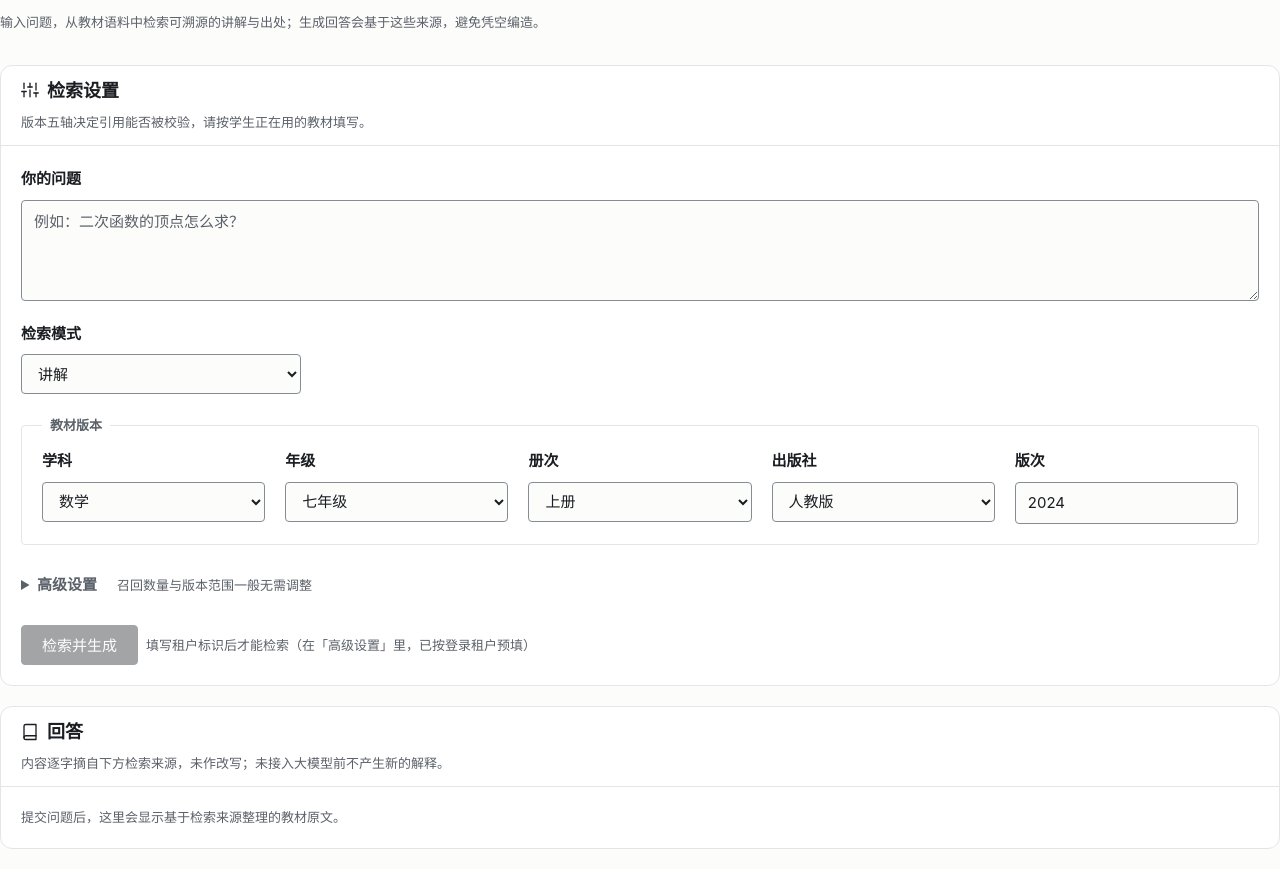
it: 知识检索页（FE-RAG 接线） › ⛔ 诚实错误态：检索失败时说原因，且不伪装空态
This screenshot has width=1280, height=869.
Type "顶点怎么求" into the text box labelled "你的问题" at x=640, y=250, box x1=21 y1=200 x2=1259 y2=301
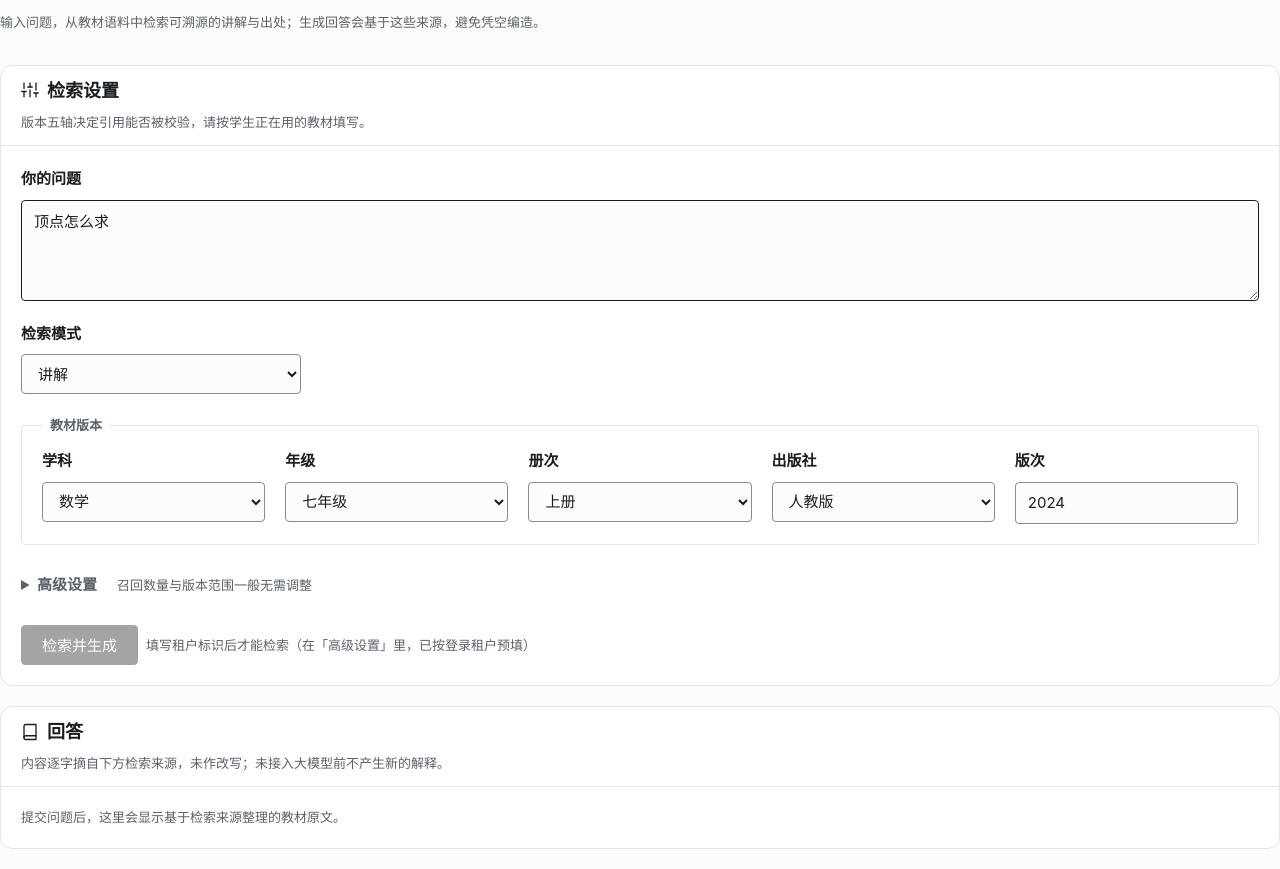
Click the heading "高级设置" at x=67, y=584, box x1=37 y1=575 x2=97 y2=594
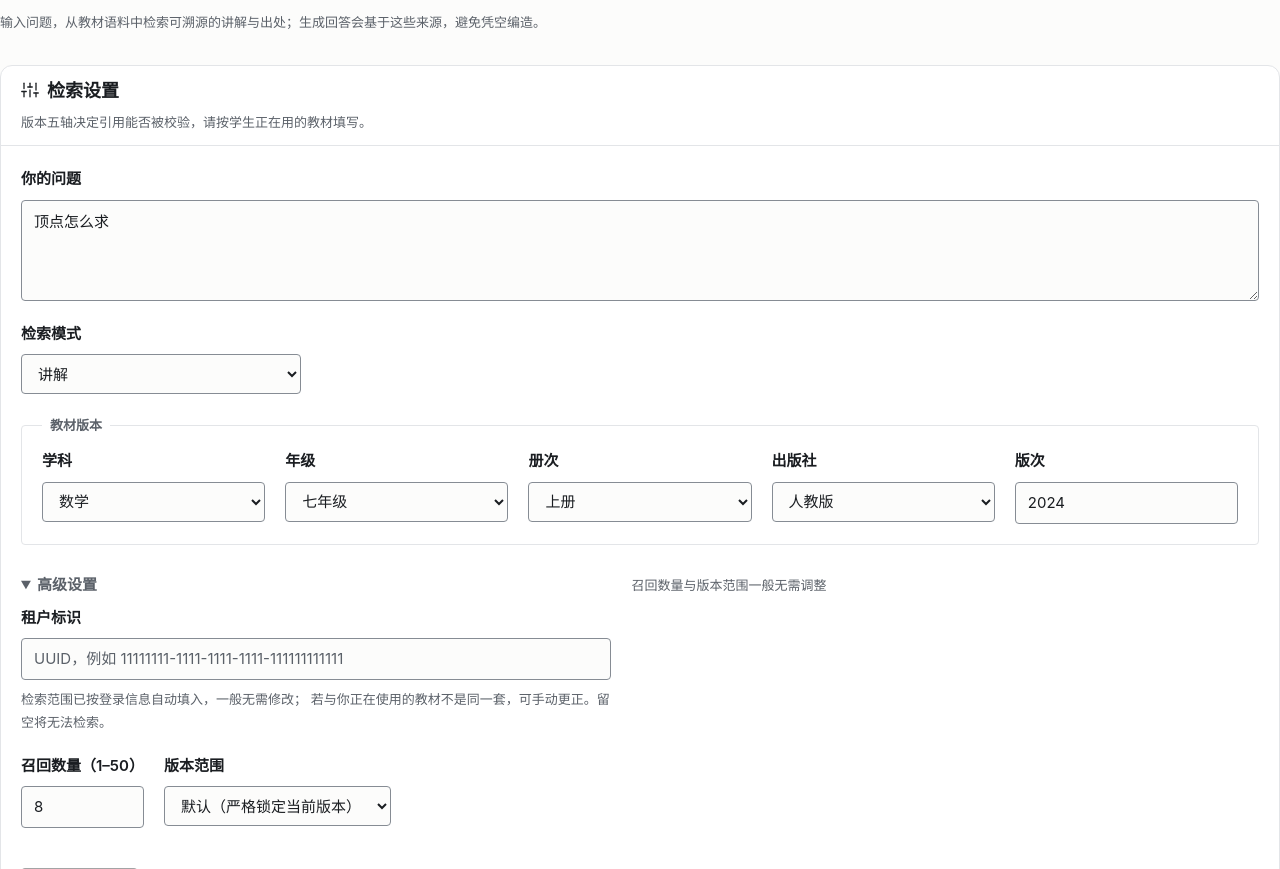
Type "11111111-1111-1111-1111-111111111111" into the field labelled "租户标识" at x=316, y=659, box x1=21 y1=638 x2=612 y2=680
(page scrolled)
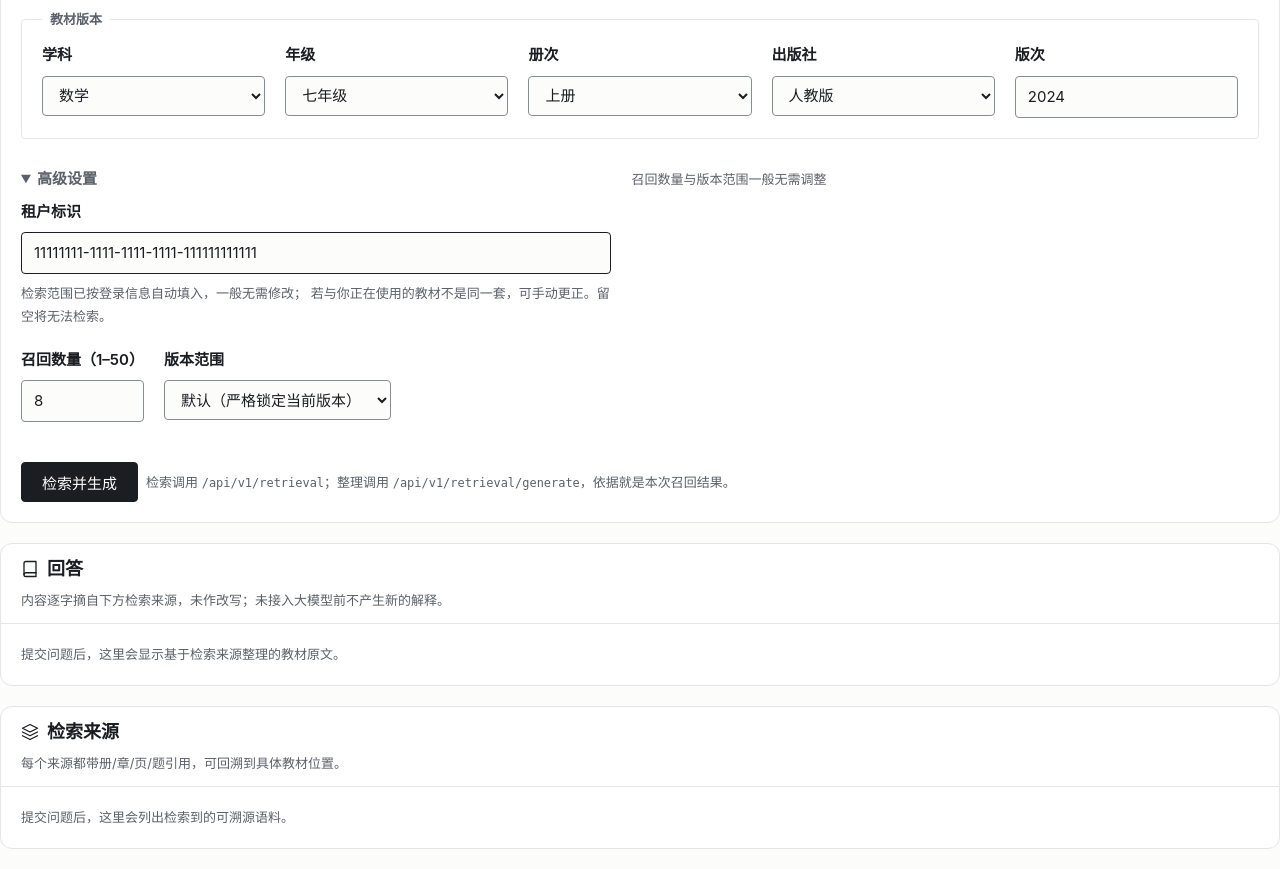
Click the button "检索并生成" at x=80, y=482, box x1=21 y1=462 x2=138 y2=502
(page scrolled)
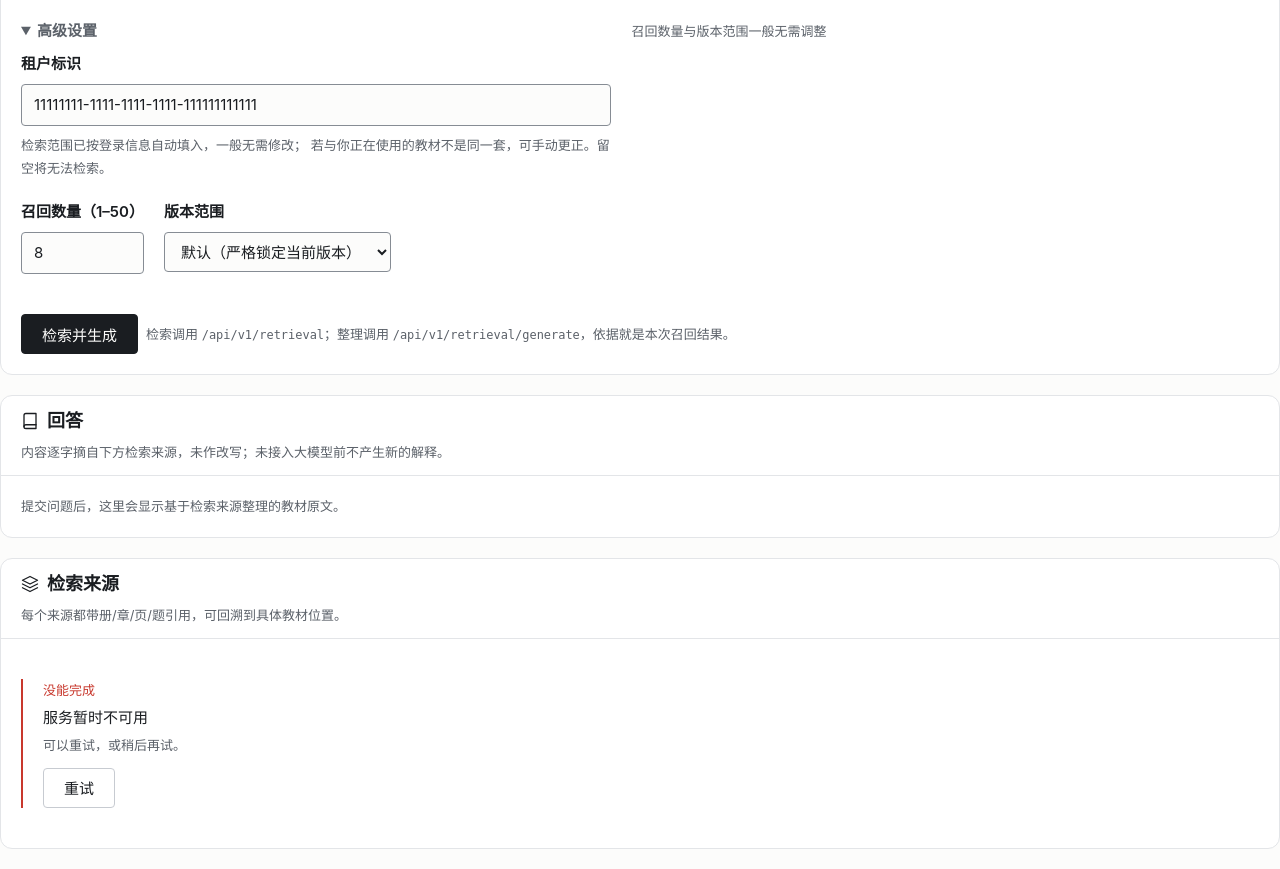
Check: the text "服务暂时不可用" is shown, box x1=43 y1=708 x2=148 y2=727
